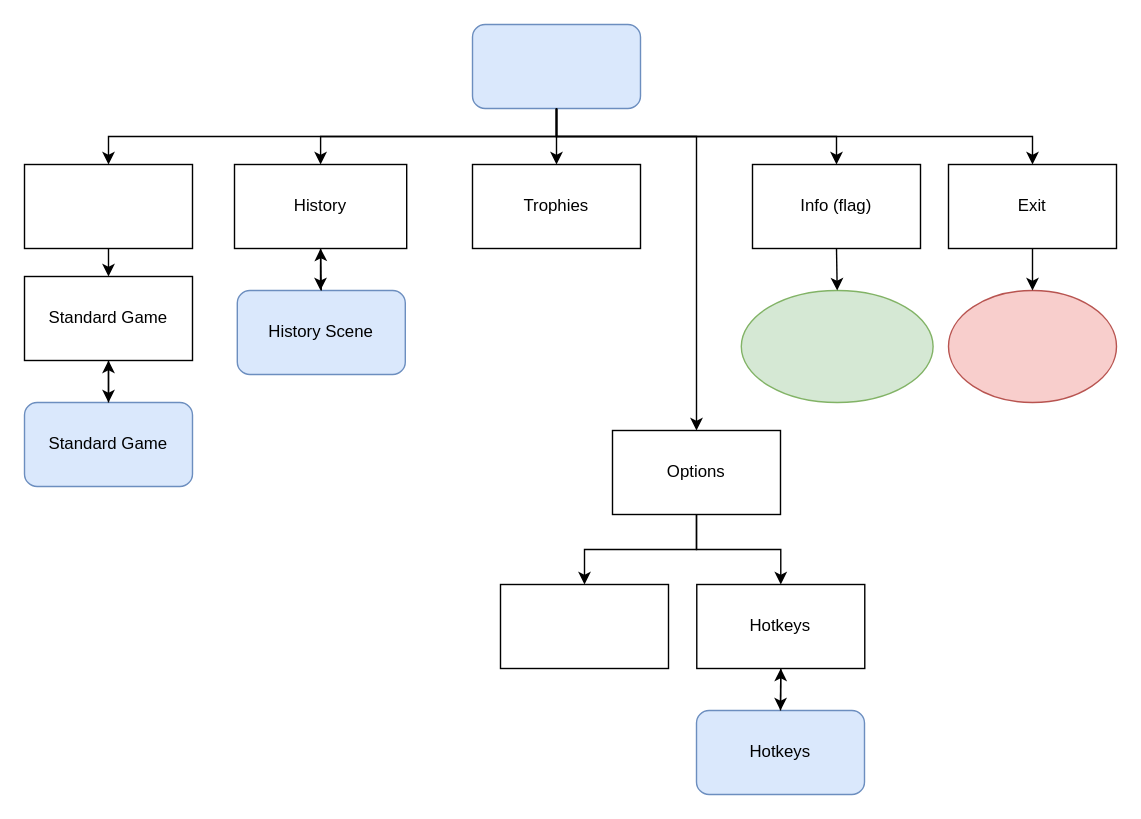
This 1141x819 diagram has some shape labels left out. Each missing label, with the centre of its shape:
"Close Application" goes at (1031,345).
"Main Menu" goes at (555,65).
"Options Elements" goes at (583,625).
"Show info of our team" goes at (836,345).
"Single Player" goes at (107,205).
